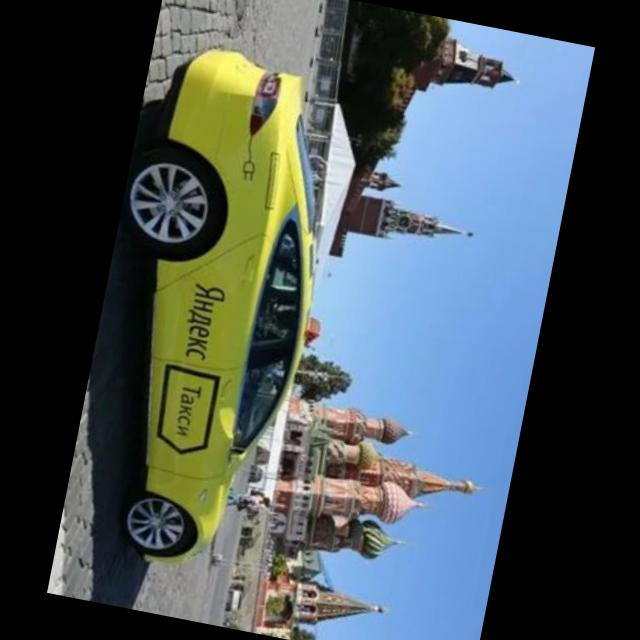taxi: (56, 35, 365, 586)
